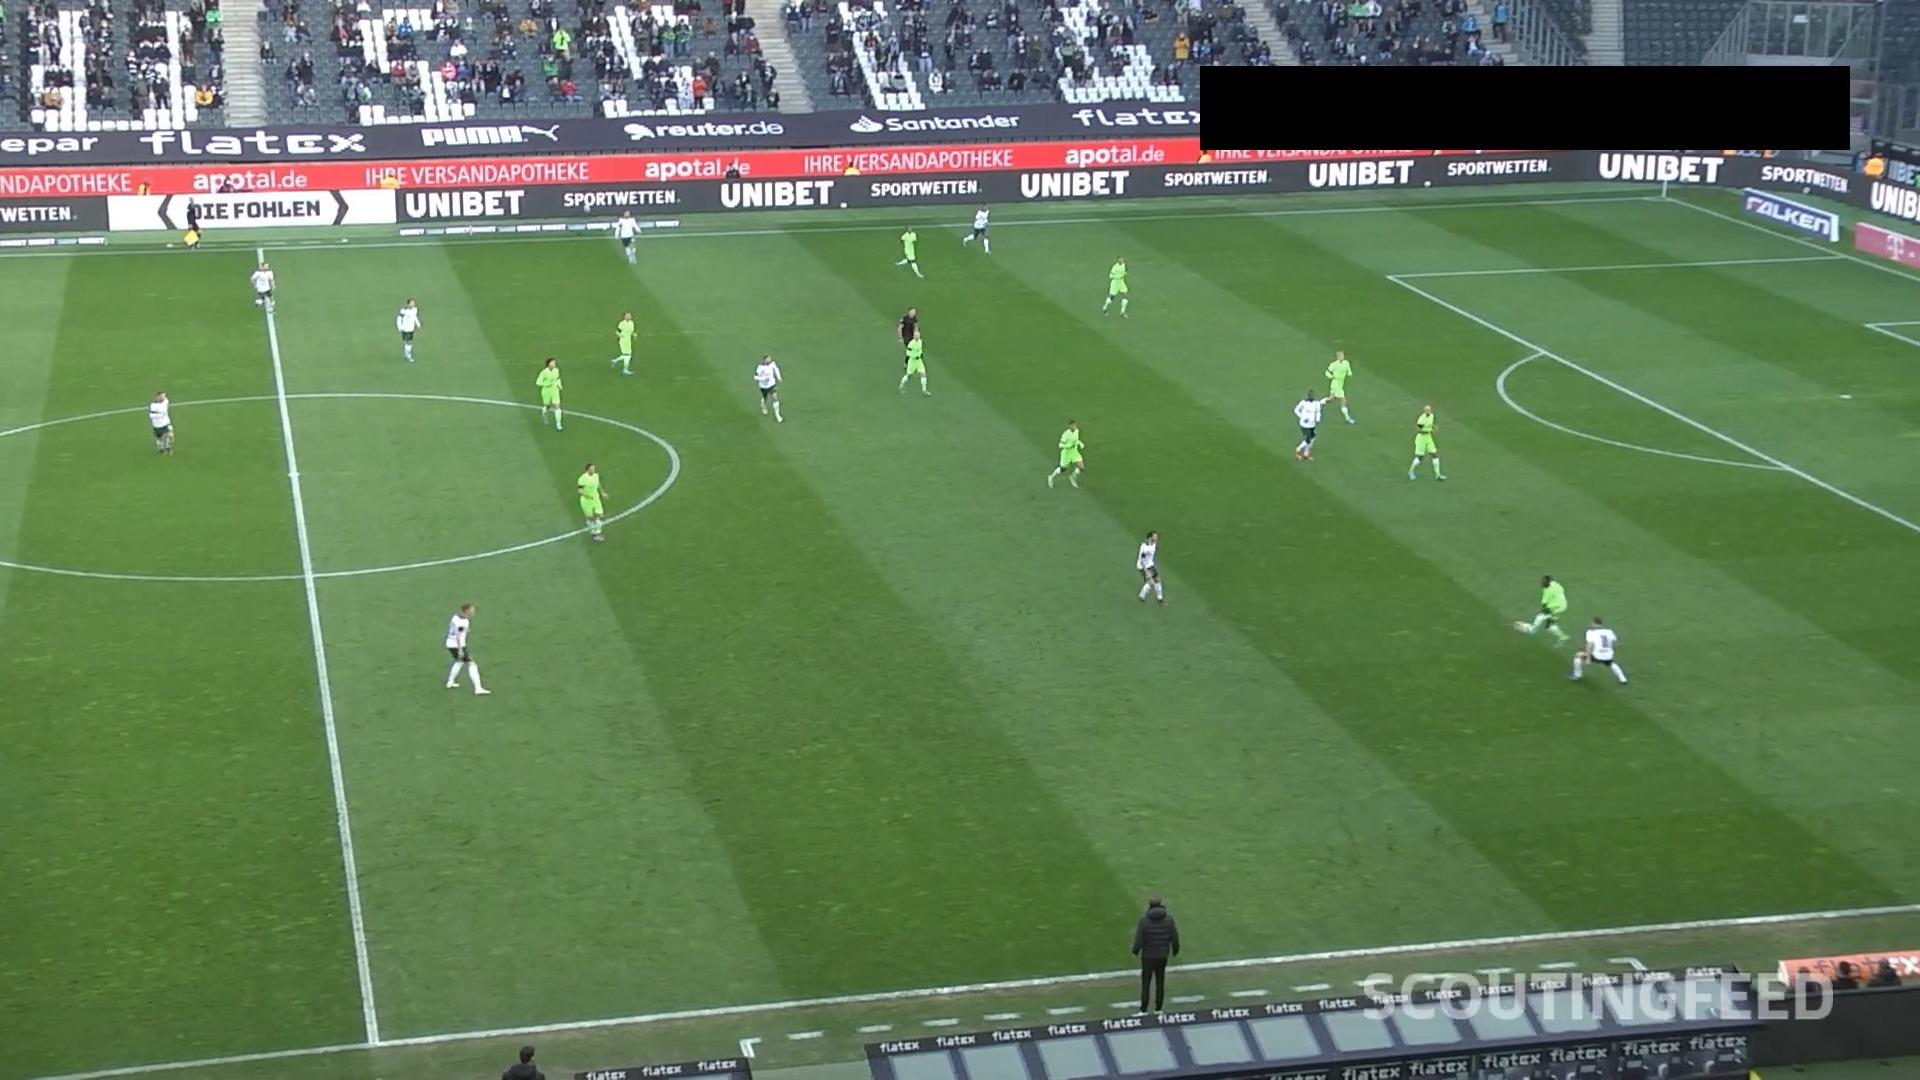ball: (1509, 620, 1532, 634)
